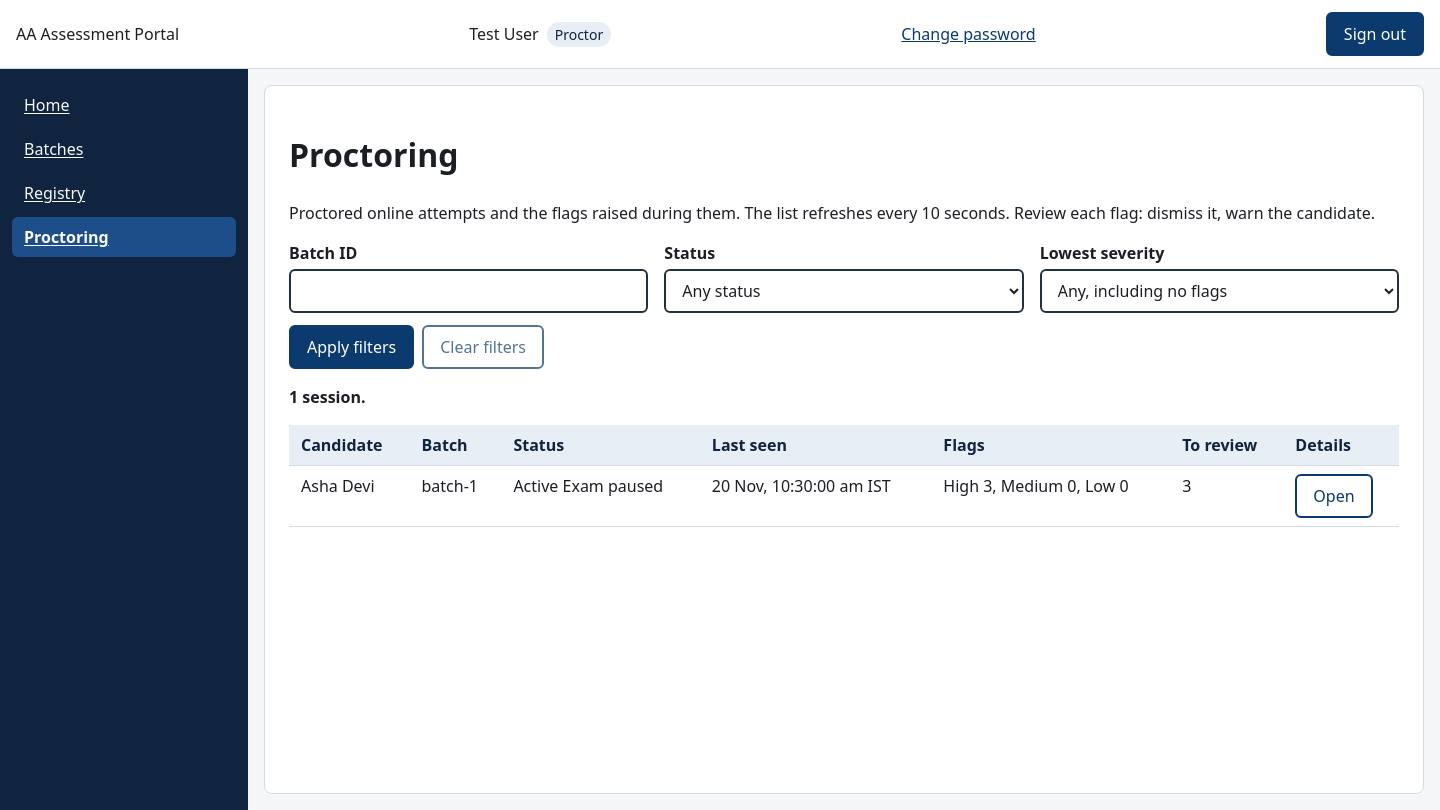
marks a paused exam in the list and shows the lock state with an Unlock button
The width and height of the screenshot is (1440, 810).
Expected: the text "Exam paused" is shown, 558,475 -> 663,497
Click the button with aria-label "Open session of Asha Devi" at (1334,496), box 1295,474 -> 1373,518
(page scrolled)
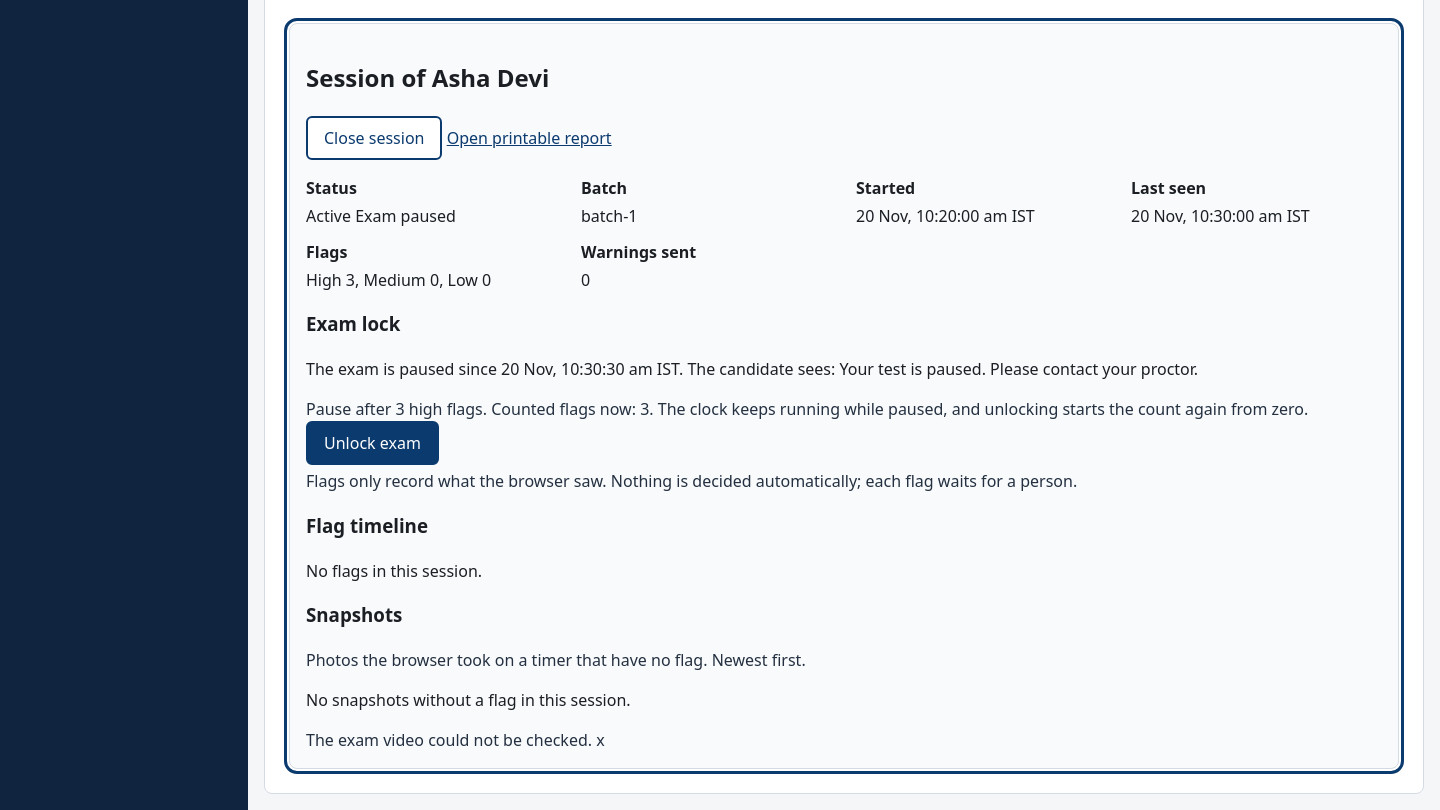
Result: the heading "Exam lock" is shown at 306,311 -> 400,336
Result: the text "The exam is paused since" shows "Your test is paused. Please contact your proctor." at 306,358 -> 1198,380
Result: the text "Pause after 3 high flags. Counted flags now: 3" is shown at 306,397 -> 1382,421
